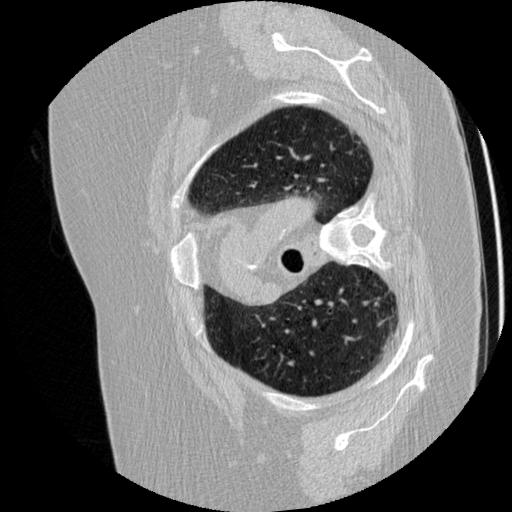nodule: (285, 359, 297, 371)
